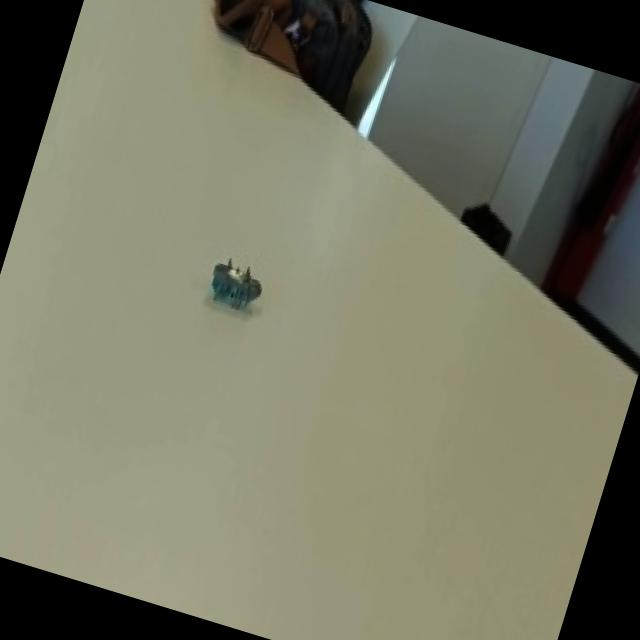5_NanoBug_GrisClaro: (184, 230, 294, 348)
